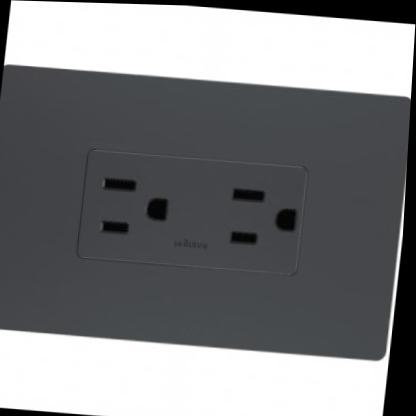OUTLET: (0, 60, 412, 360)
